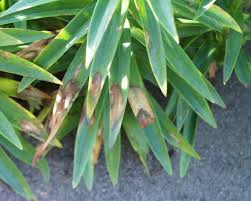Diseased_Leaves: (108, 84, 125, 125), (15, 82, 52, 100), (42, 111, 58, 148), (133, 94, 150, 128), (60, 77, 76, 108)
